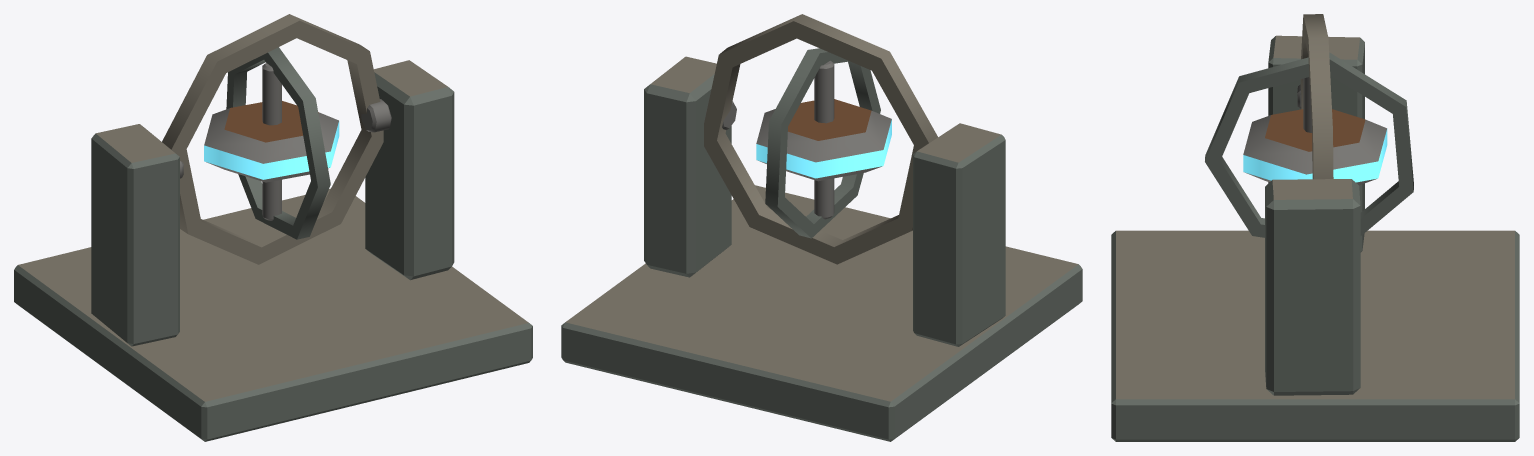
The model's file is R4X_Gyroscope_LOD1.fbx.
3 views of the same model, side by side, from view 1: azimuth 30°, elevation 25°; view 2: azimuth 150°, elevation 25°; view 3: azimuth 270°, elevation 25° (orthographic). The views are drawn at different scales.
Visible parts, largest first — view 1: R4X_Gyroscope_LOD1; view 2: R4X_Gyroscope_LOD1; view 3: R4X_Gyroscope_LOD1.
Boxes of the visible parts, x1,y1,x2,y2 form: R4X_Gyroscope_LOD1: (14, 14, 532, 441); R4X_Gyroscope_LOD1: (561, 14, 1082, 441); R4X_Gyroscope_LOD1: (1111, 14, 1519, 441).
Size of the model in its own units: 0.52 by 0.4646 by 0.52.
